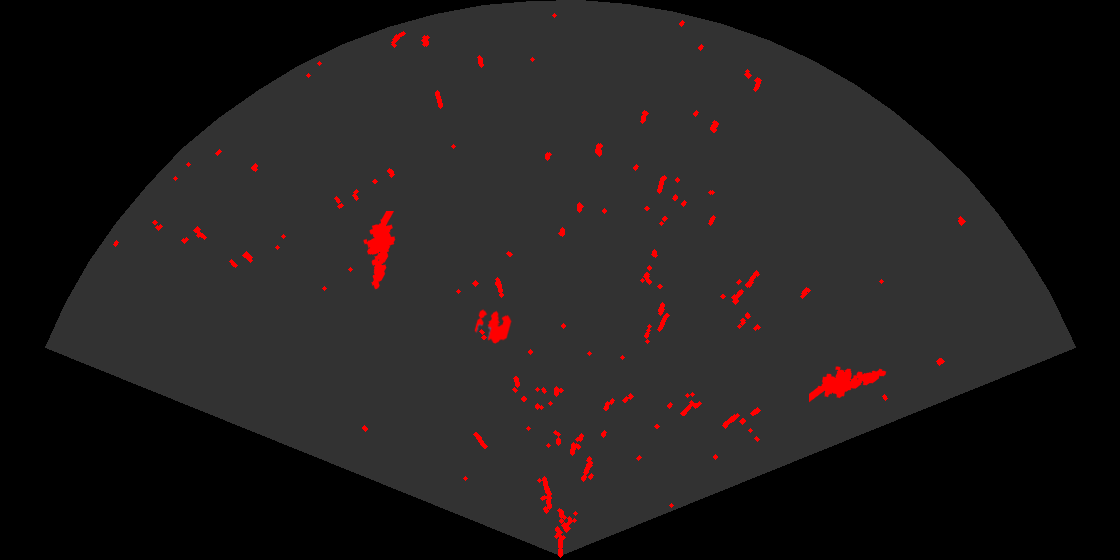ball: (473, 308, 513, 345)
frogman: (809, 365, 888, 404), (362, 211, 397, 291)
